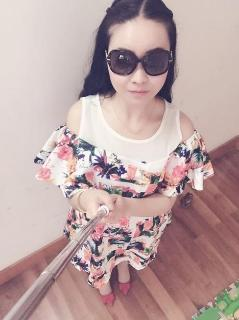short sleeve dress: (33, 93, 215, 289)
